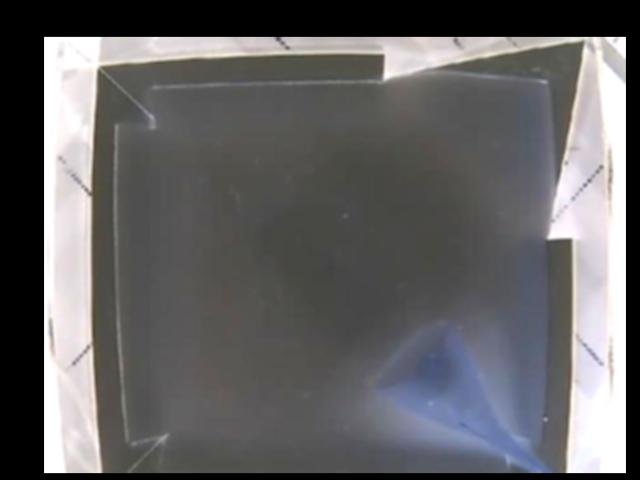Mooli: (371, 321, 514, 445)
